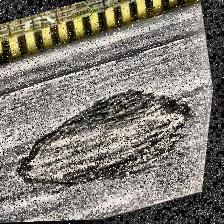pothole: (3, 69, 211, 207)
